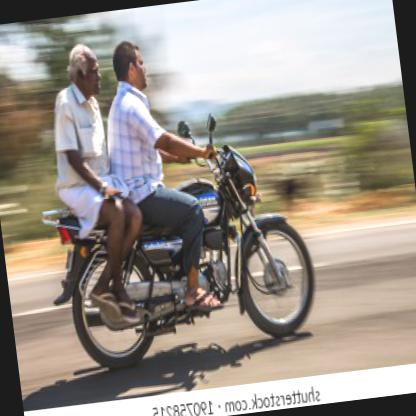motorcycle: (26, 16, 324, 378)
